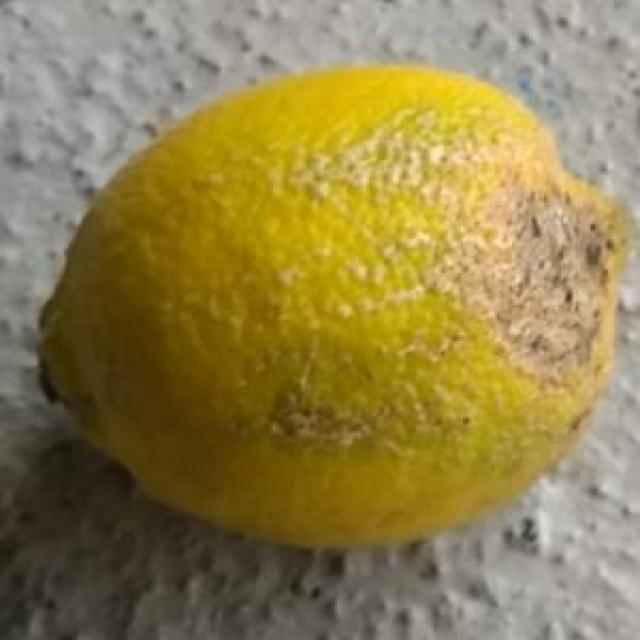lemon: (41, 61, 625, 565)
